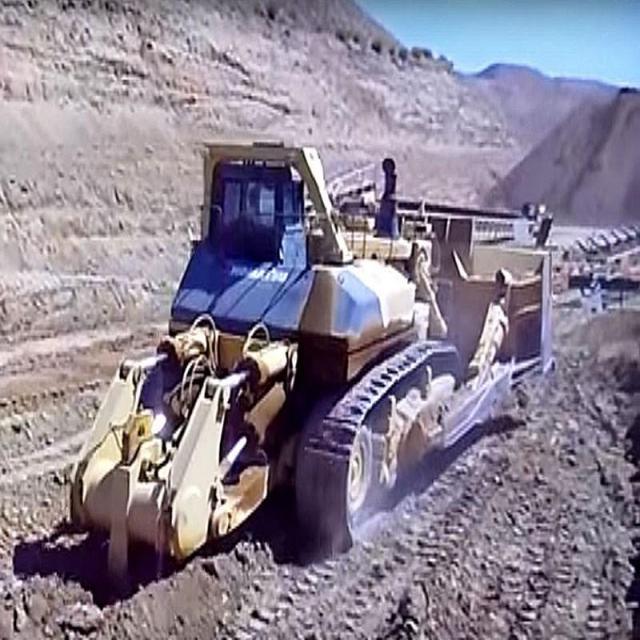Bulldozer: (38, 96, 604, 577)
